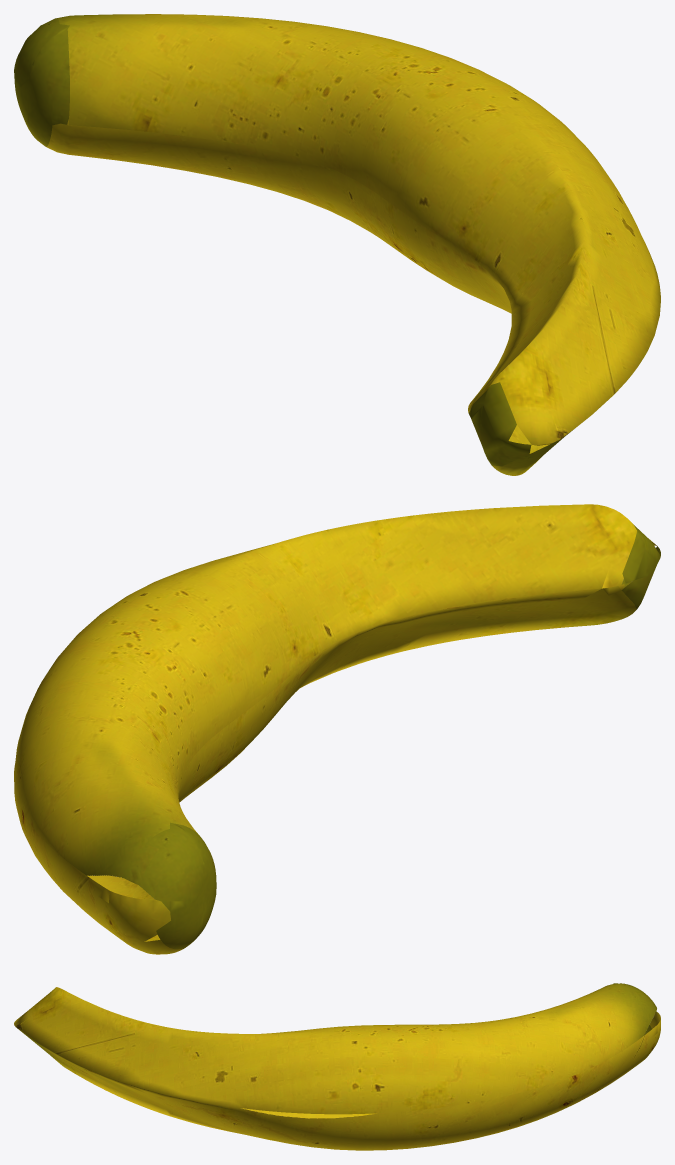
File: banana.obj
3 renders of one model, top to bottom at view 1: azimuth 30°, elevation 25°; view 2: azimuth 150°, elevation 25°; view 3: azimuth 270°, elevation 25°, orthographic. The views are drawn at different scales.
Parts seen in each view (by area): view 1: banana; view 2: banana; view 3: banana.
Part boxes in pixels (left/top/right/bottom): banana: left=14, top=14, right=660, bottom=475; banana: left=14, top=504, right=660, bottom=954; banana: left=14, top=983, right=660, bottom=1150.
Bounding box in the file's own units: 74.01 × 38.2 × 200.
1 material, 1 textured.
